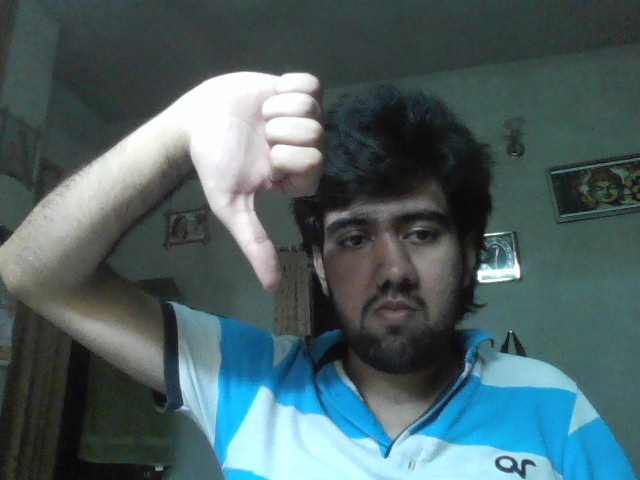NotOk: (196, 71, 322, 293)
